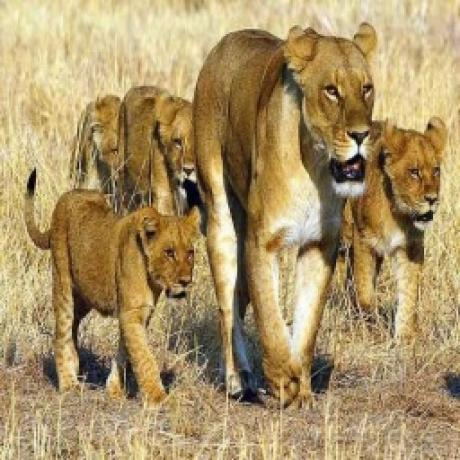Lion: (190, 19, 380, 406), (23, 169, 205, 404), (350, 114, 452, 344), (118, 81, 198, 217), (68, 92, 127, 187)
